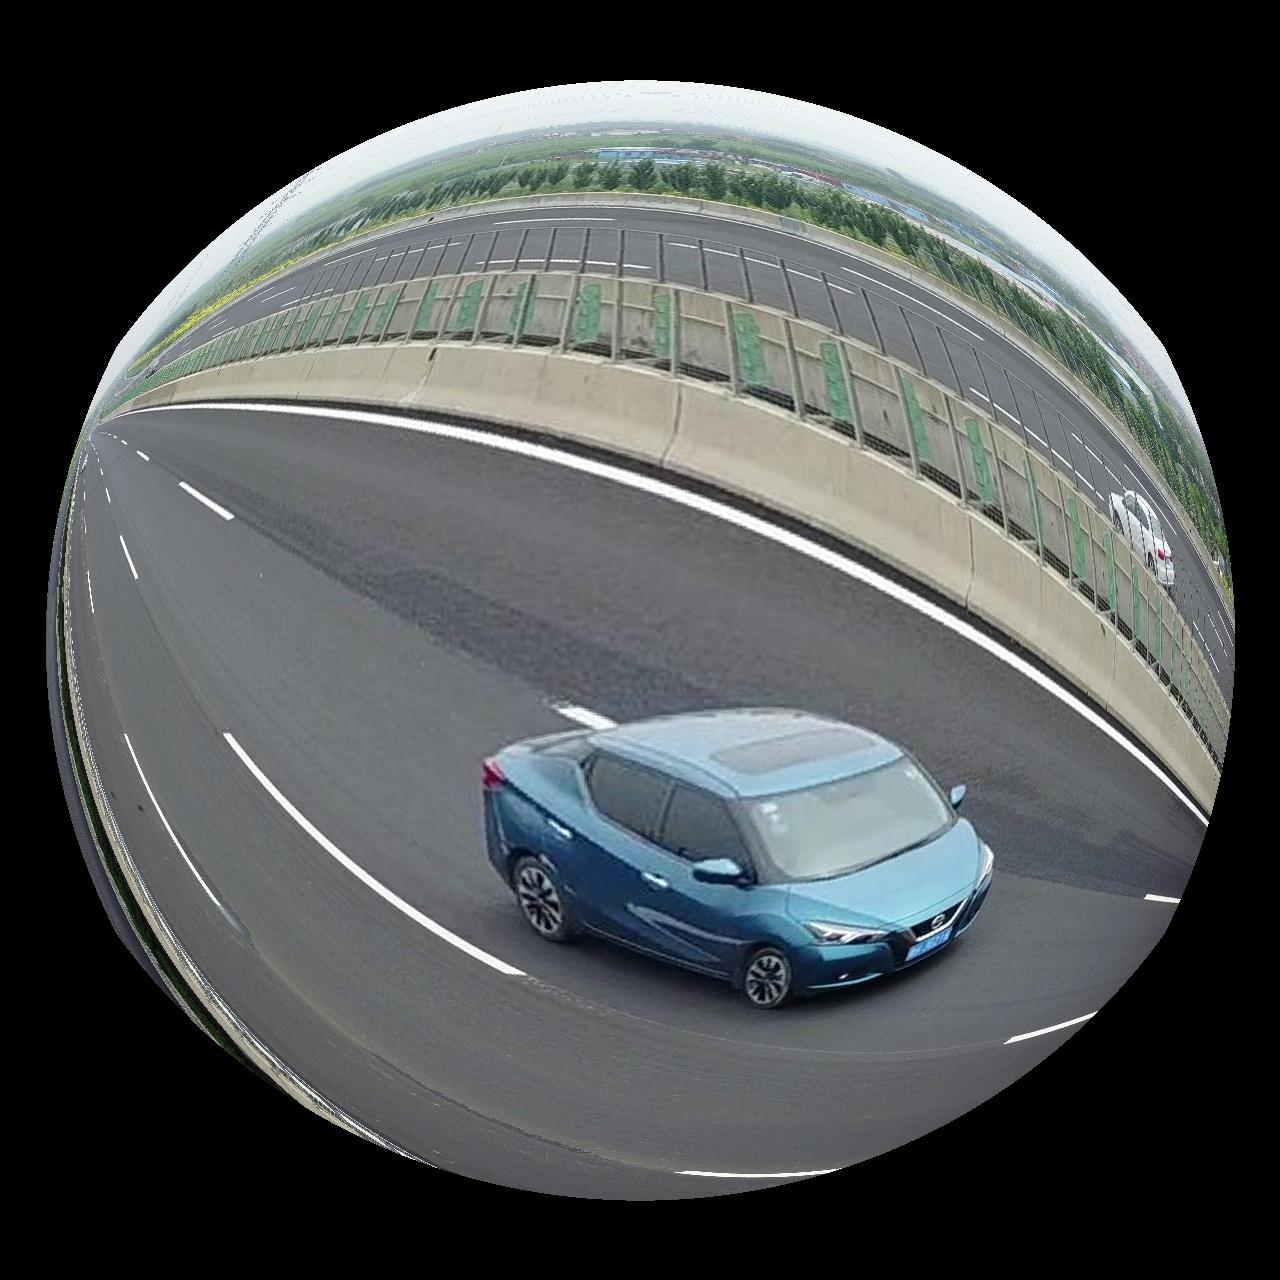cars: (482, 709, 996, 1009), (1111, 492, 1178, 590)
